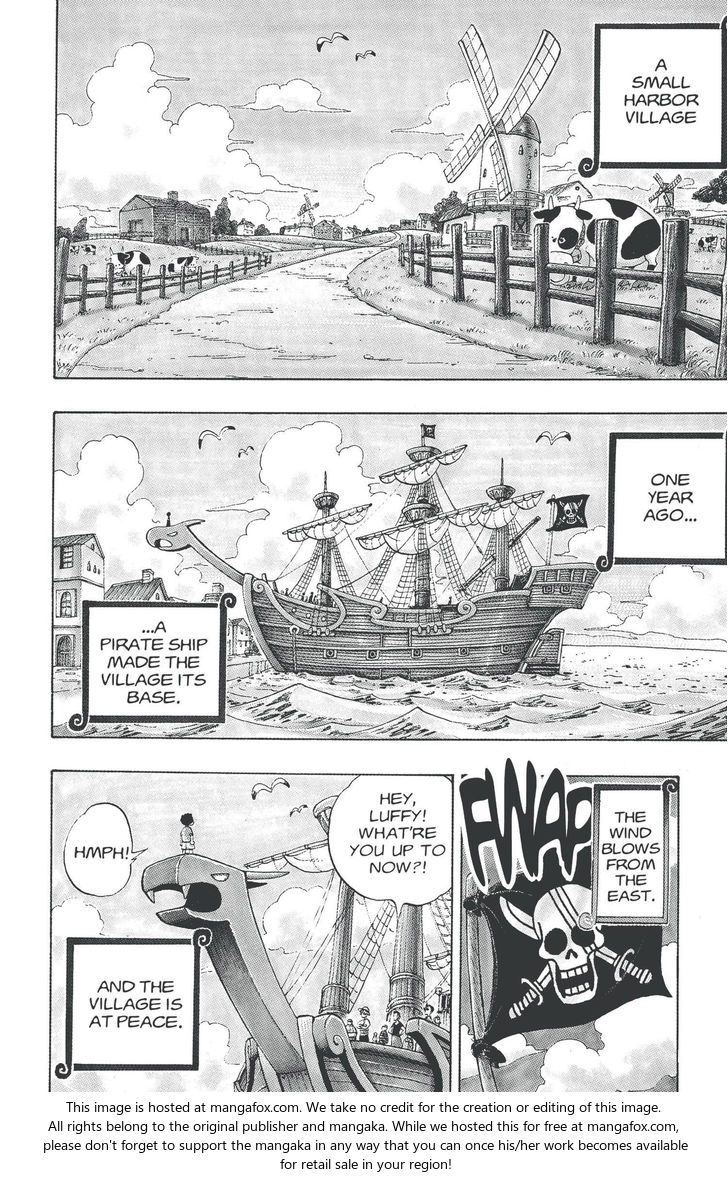bubble: (328, 774, 453, 923), (597, 24, 726, 166), (67, 940, 200, 1068), (84, 605, 225, 719), (611, 435, 727, 564), (594, 788, 666, 922), (64, 803, 146, 897)
